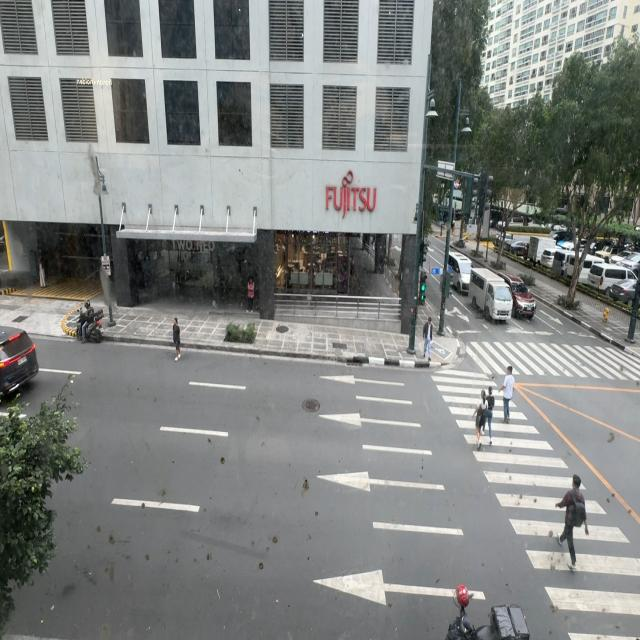crossing: (555, 474, 587, 570), (474, 384, 494, 446), (499, 366, 515, 422)
jaywalking: (173, 318, 182, 360)
waiting: (423, 316, 433, 361), (424, 316, 433, 361)
